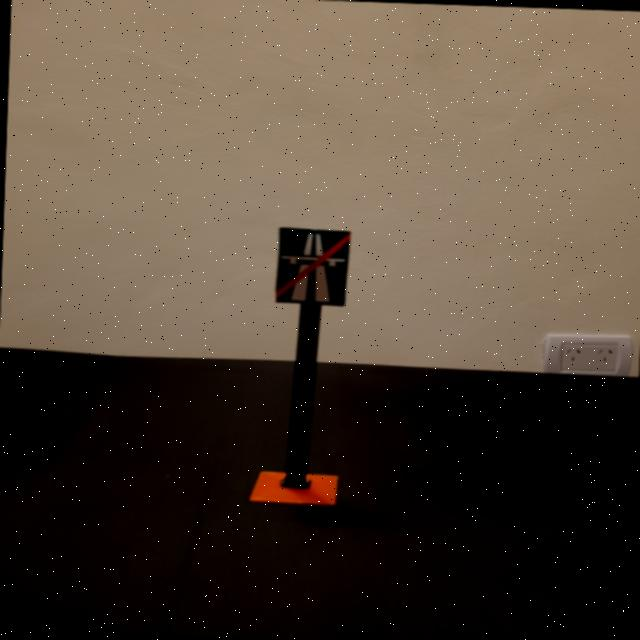highway_exit: (274, 225, 349, 306)
